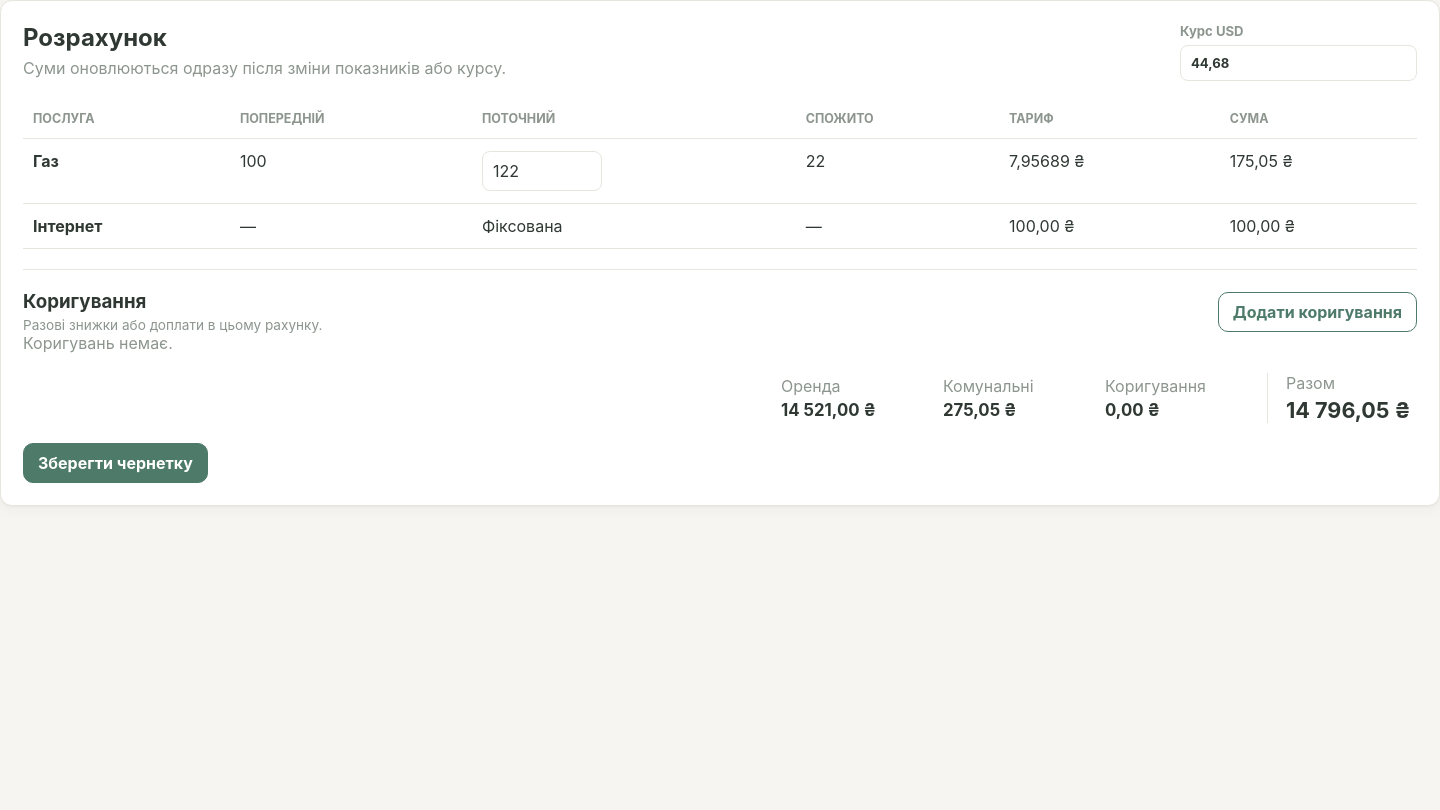
Test case: InvoiceCalculator › enforces backend precision limits for adjustment amounts
Click the button "Додати коригування": (1317,312) [1218,292,1417,332]
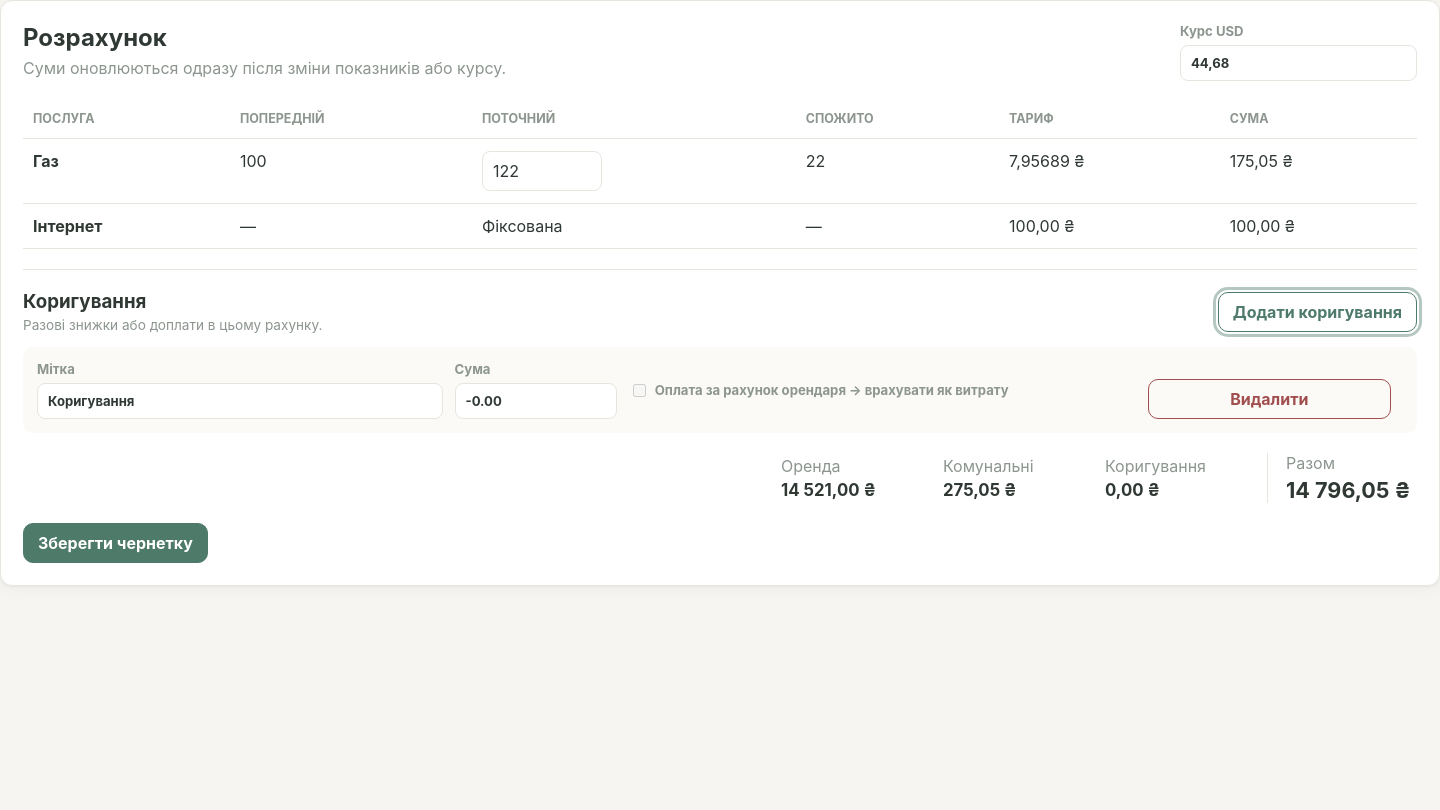
Replace the text in the field named "Сума коригування 1" with "-1.001": (536,401) [454,383,617,419]
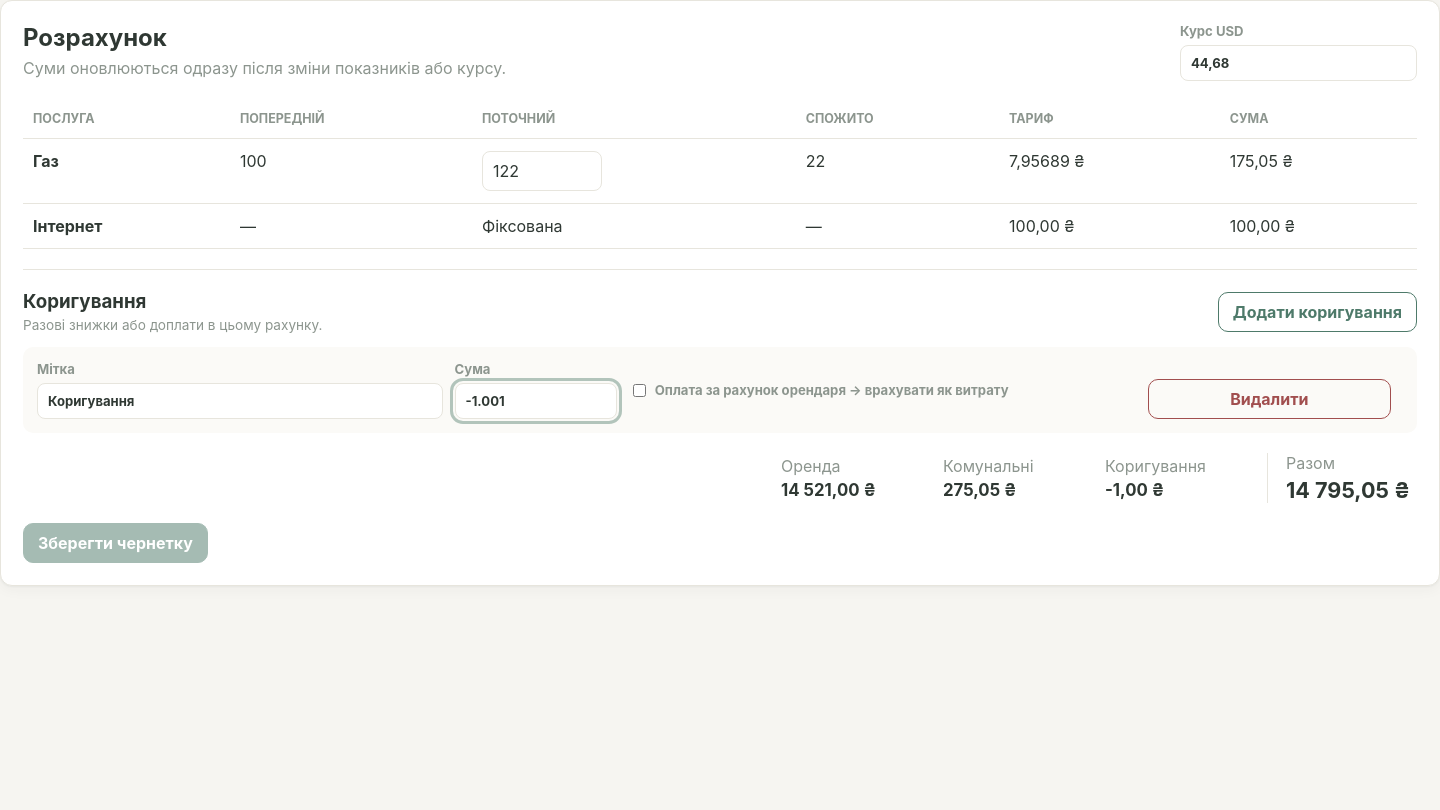
Expected: the button "Зберегти чернетку" is disabled, [23,523,208,563]
Replace the text in the field named "Сума коригування 1" with "-10000000000.00": (536,401) [454,383,617,419]
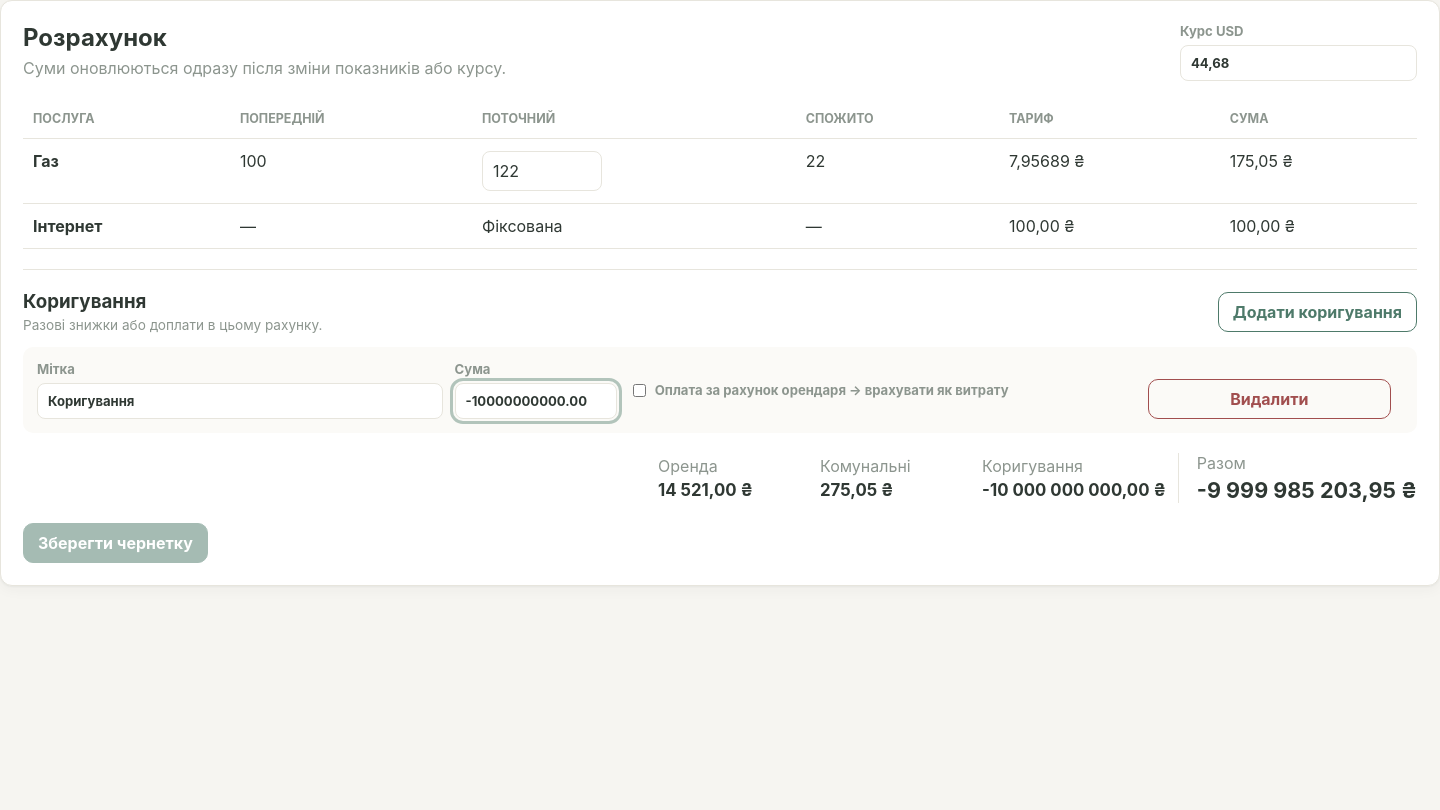
Expected: the button "Зберегти чернетку" is disabled, [23,523,208,563]
Replace the text in the field named "Сума коригування 1" with "-9999999999.99": (536,401) [454,383,617,419]
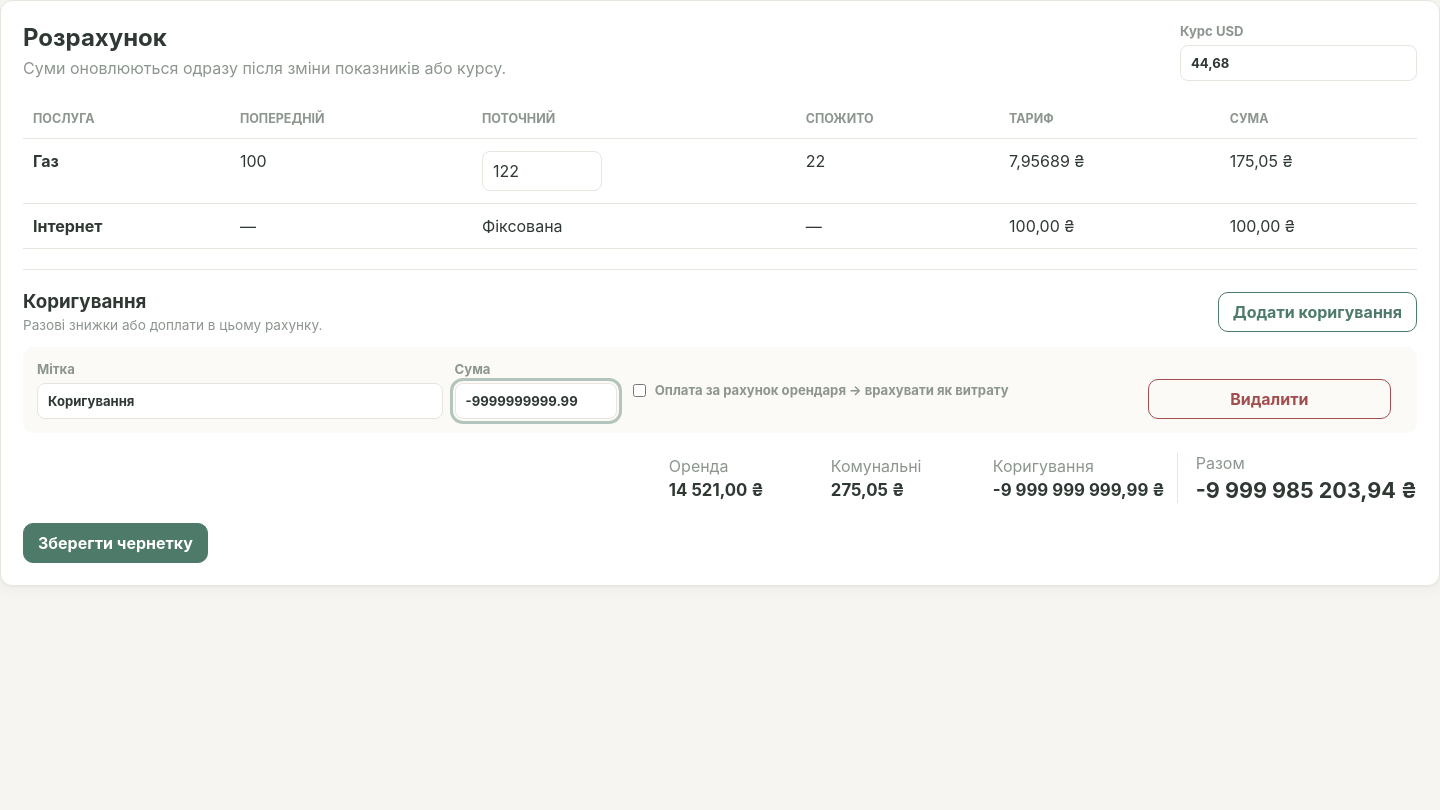
Expected: the button "Зберегти чернетку" is enabled, [23,523,208,563]
